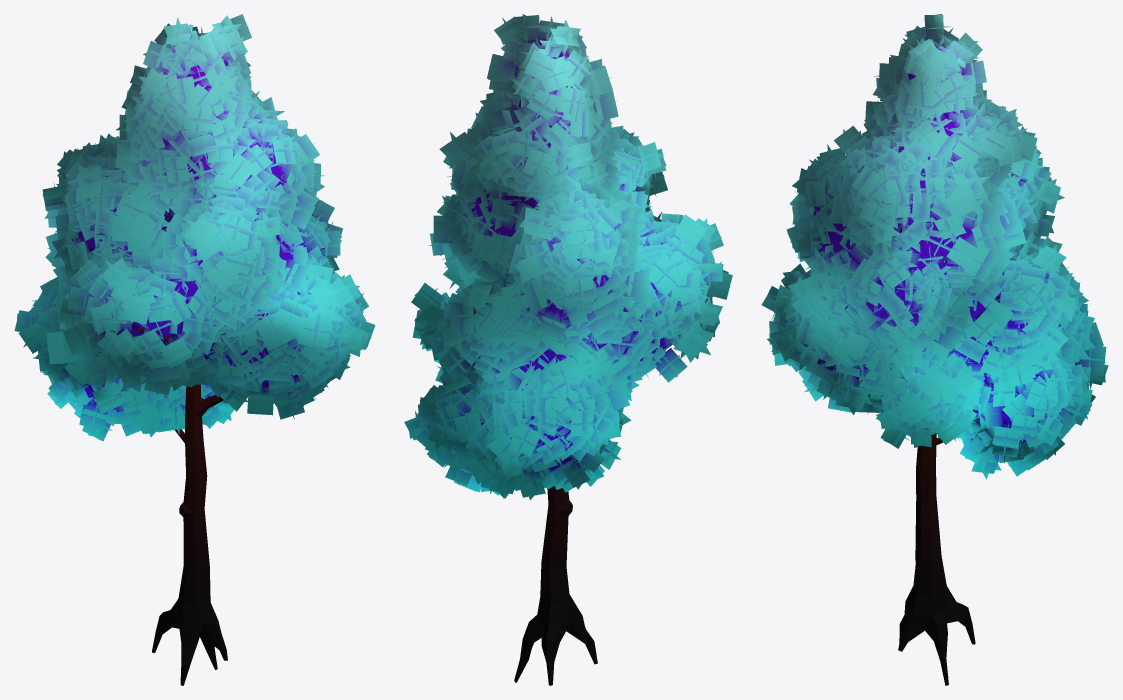
The model's file is SM_Env_Tree_Birch_01.FBX.
3 renders of one model, left to right at view 1: azimuth 30°, elevation 25°; view 2: azimuth 150°, elevation 25°; view 3: azimuth 270°, elevation 25°, orthographic.
Visible parts, largest first — view 1: SM_Env_Tree_Birch_01; view 2: SM_Env_Tree_Birch_01; view 3: SM_Env_Tree_Birch_01.
Part boxes in pixels (bbox=[...]): SM_Env_Tree_Birch_01: bbox=[14, 14, 375, 685]; SM_Env_Tree_Birch_01: bbox=[404, 14, 732, 685]; SM_Env_Tree_Birch_01: bbox=[761, 14, 1108, 685].
Bounding box in the file's own units: 472 × 495 × 1024.
